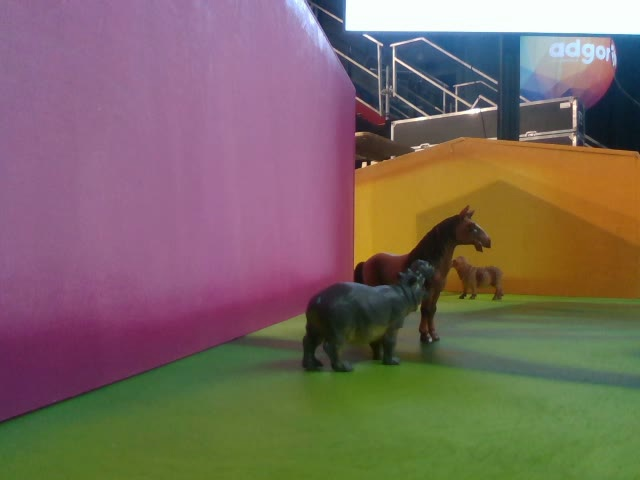toy: (302, 259, 433, 373), (451, 256, 502, 303)
